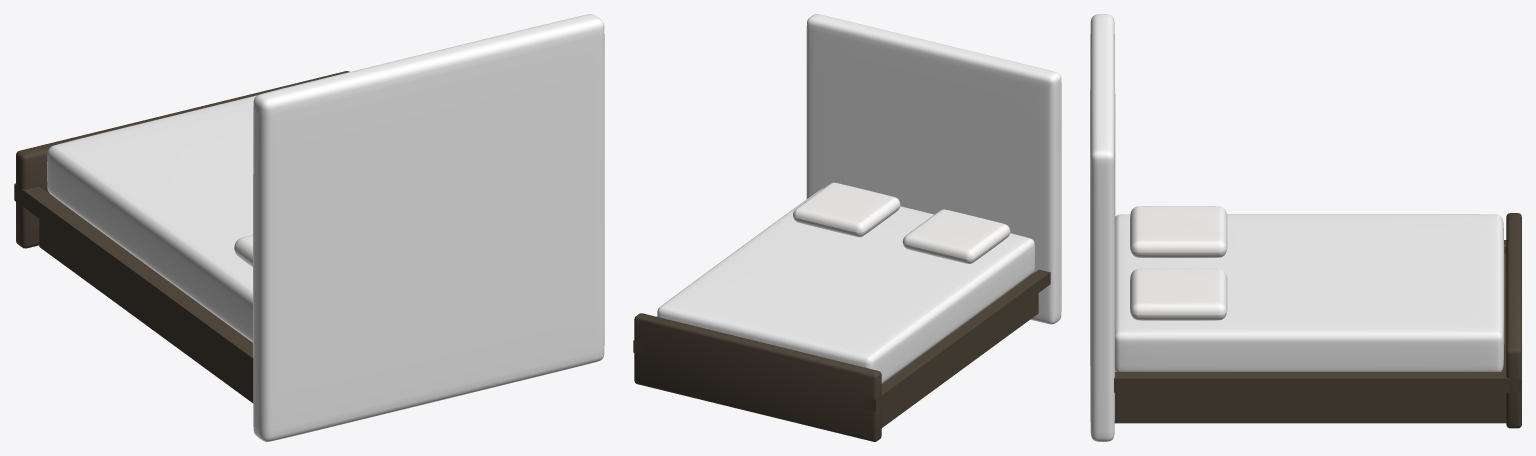
3 views of the same model, side by side, from view 1: azimuth 30°, elevation 25°; view 2: azimuth 150°, elevation 25°; view 3: azimuth 270°, elevation 25° (orthographic). The views are drawn at different scales.
Bounding box in the file's own units: 1.73 × 1.65 × 2.21.
